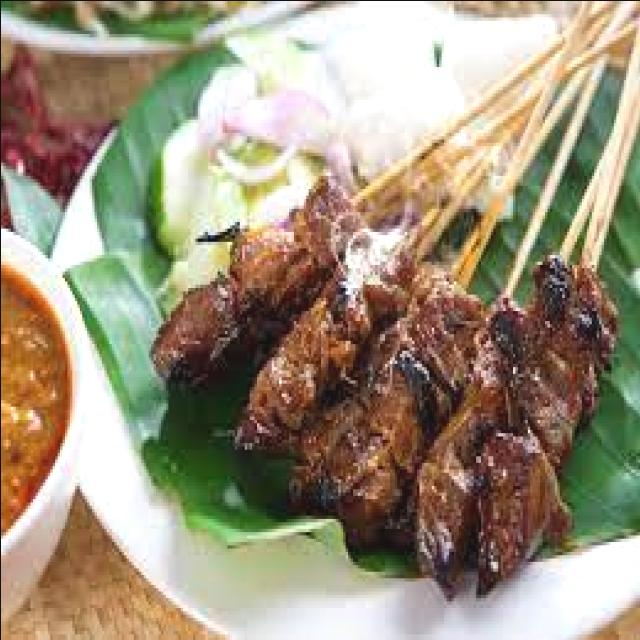sate: (148, 0, 640, 600)
